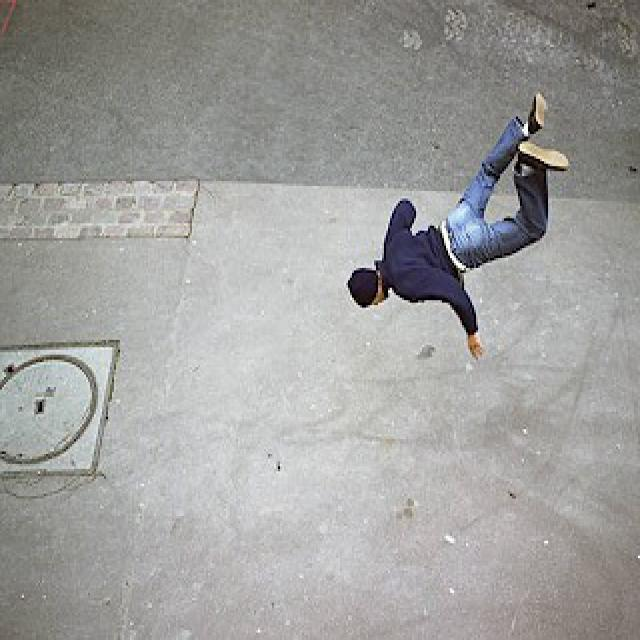fall: (347, 92, 569, 366)
